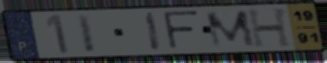1: (44, 13, 71, 56)
F: (161, 10, 202, 52)
H: (245, 7, 295, 49)
I: (75, 13, 98, 54), (144, 10, 164, 52)
M: (203, 9, 259, 50)
